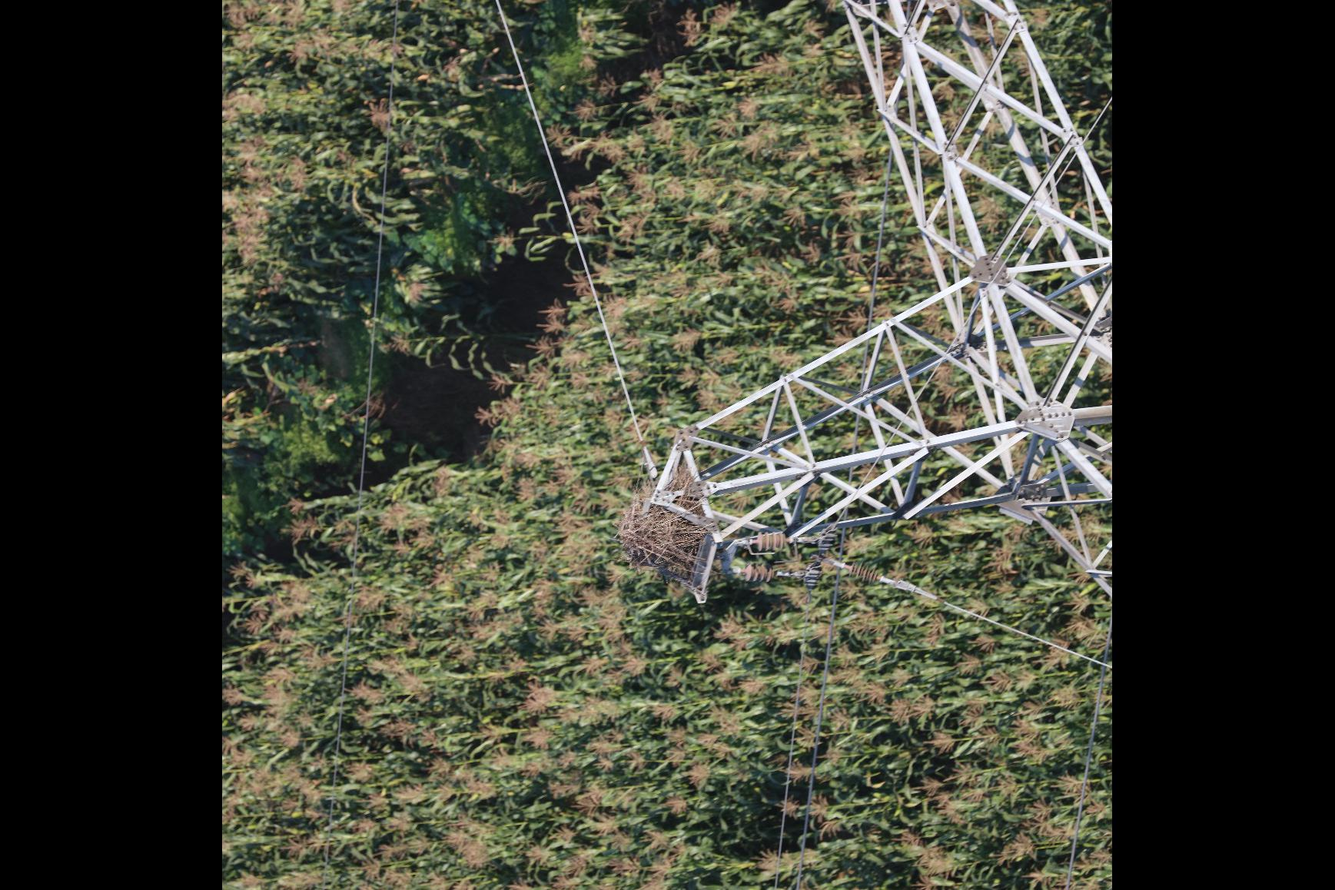nest: (612, 461, 709, 586)
